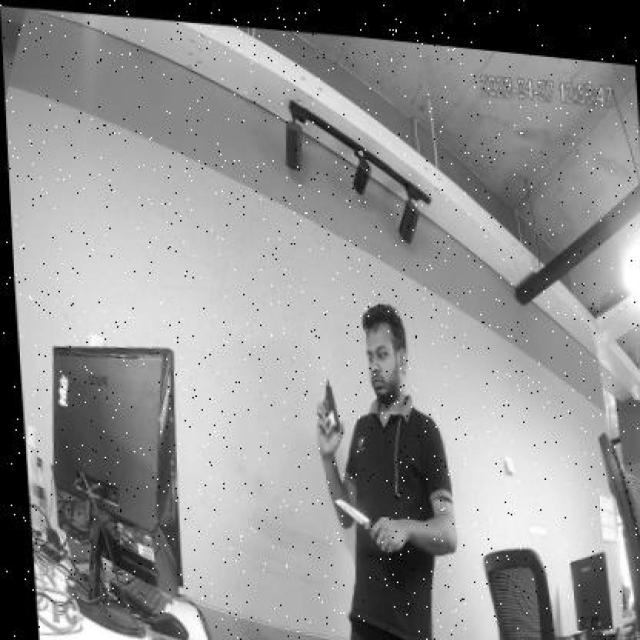weapon: (315, 378, 345, 440)
